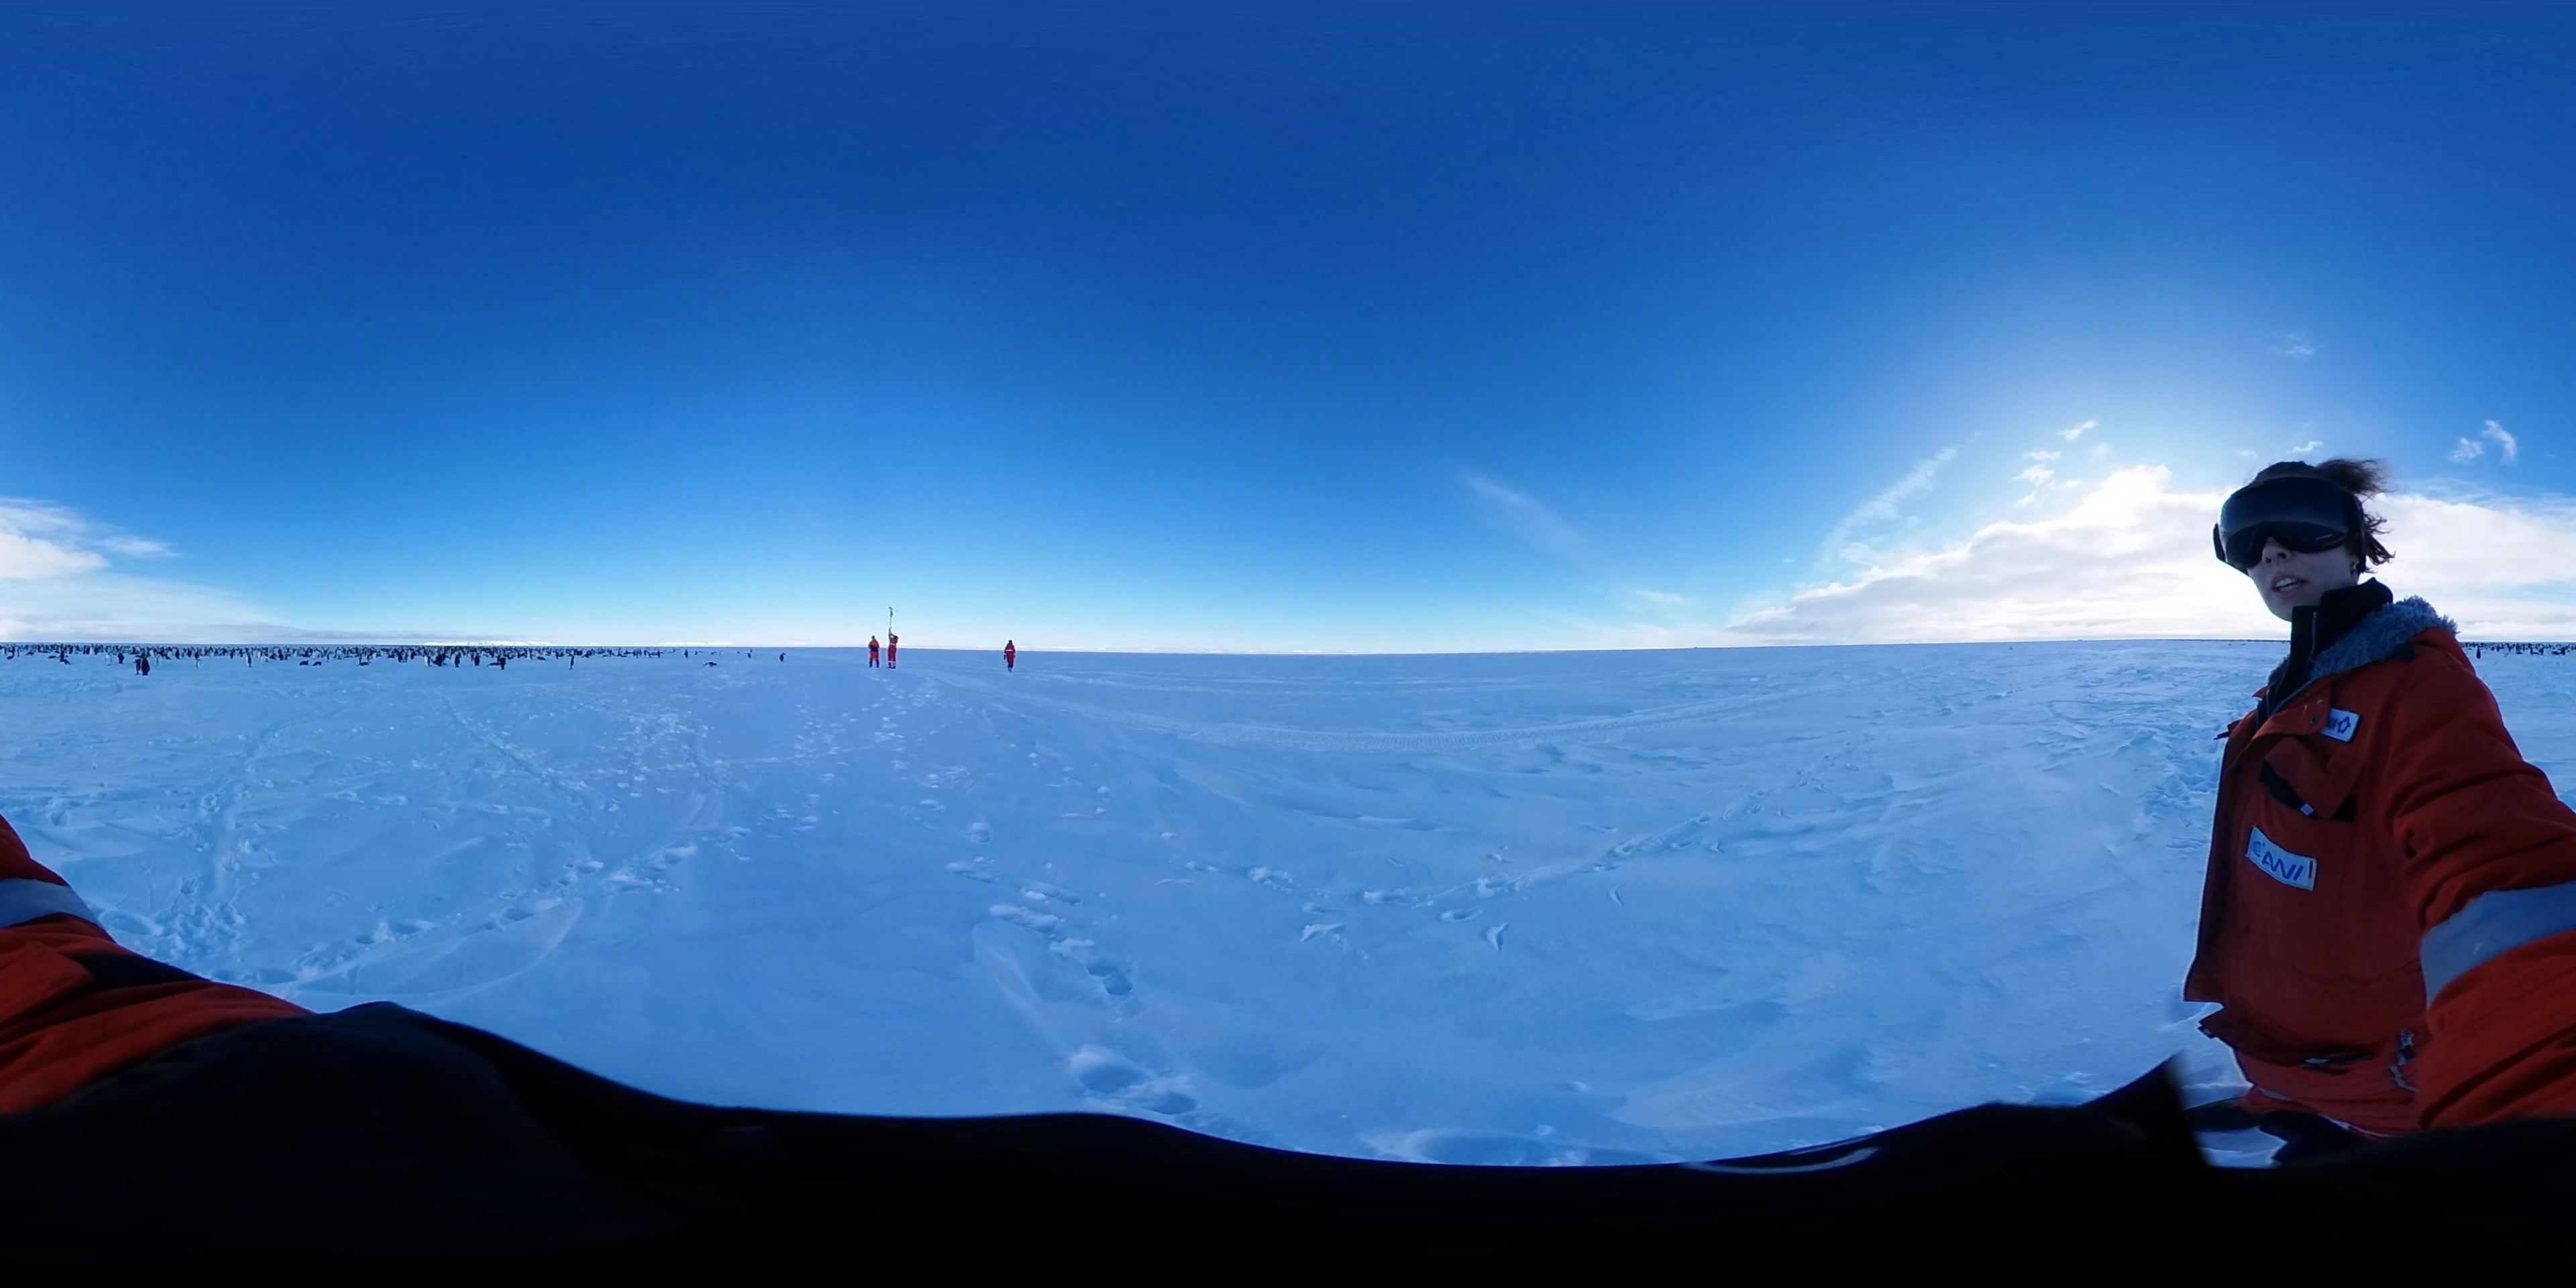adult_standing_penguin: (245, 647, 256, 670), (143, 655, 153, 677), (777, 651, 789, 662)
adult_toboggan_penguin: (703, 659, 721, 669), (296, 659, 312, 667), (310, 662, 325, 670)
researcher: (864, 634, 884, 670), (887, 629, 897, 672)
